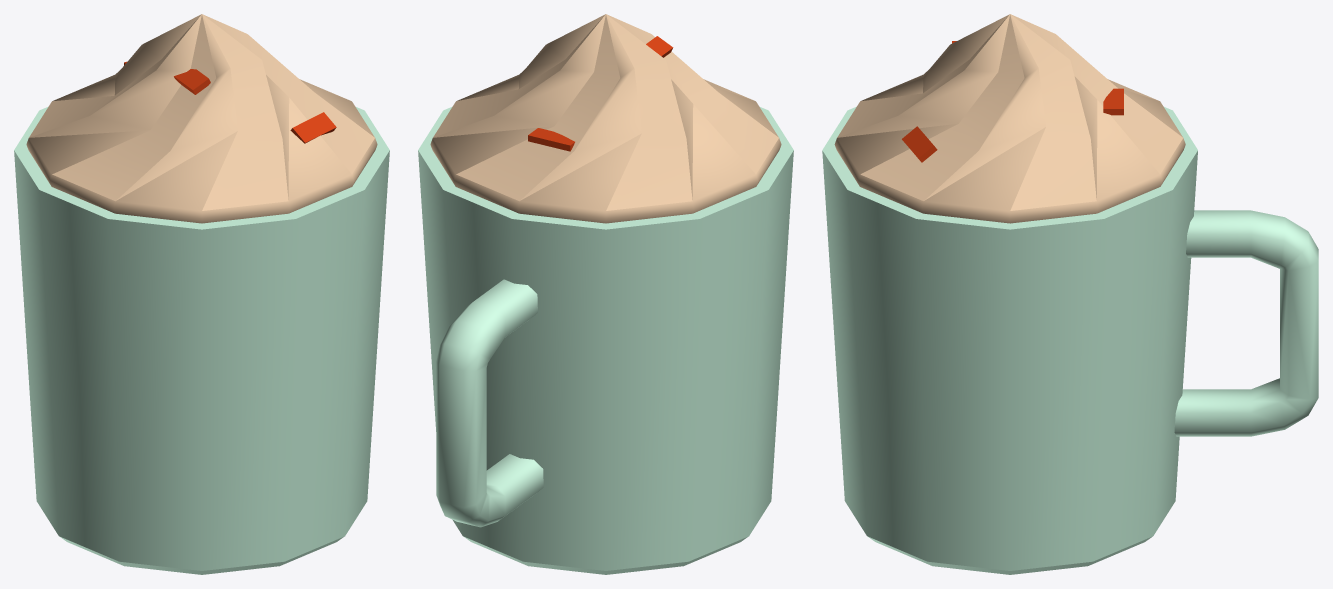
The model's file is Coc socola.FBX.
3 views of the same model, side by side, from view 1: azimuth 30°, elevation 25°; view 2: azimuth 150°, elevation 25°; view 3: azimuth 270°, elevation 25° (orthographic).
Visible parts, largest first — view 1: coc socola; view 2: coc socola; view 3: coc socola.
Boxes of the visible parts, x1,y1,x2,y2 form: coc socola: (14,14,389,574); coc socola: (418,14,793,574); coc socola: (822,14,1318,574).
Size of the model in its own units: 1.34 by 1.95 by 1.77.
